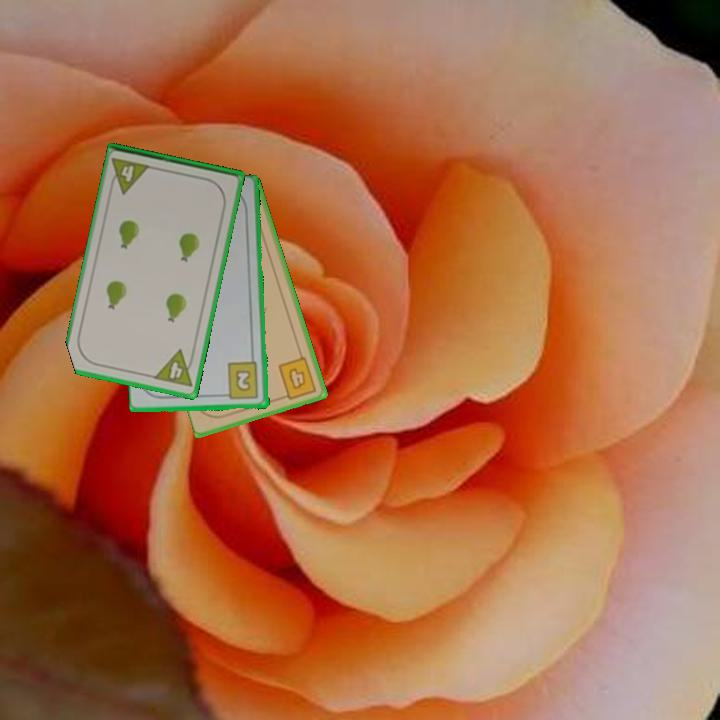2b: (220, 359, 261, 402)
4b: (275, 353, 320, 402)
4p: (150, 346, 198, 390), (106, 154, 154, 197)
